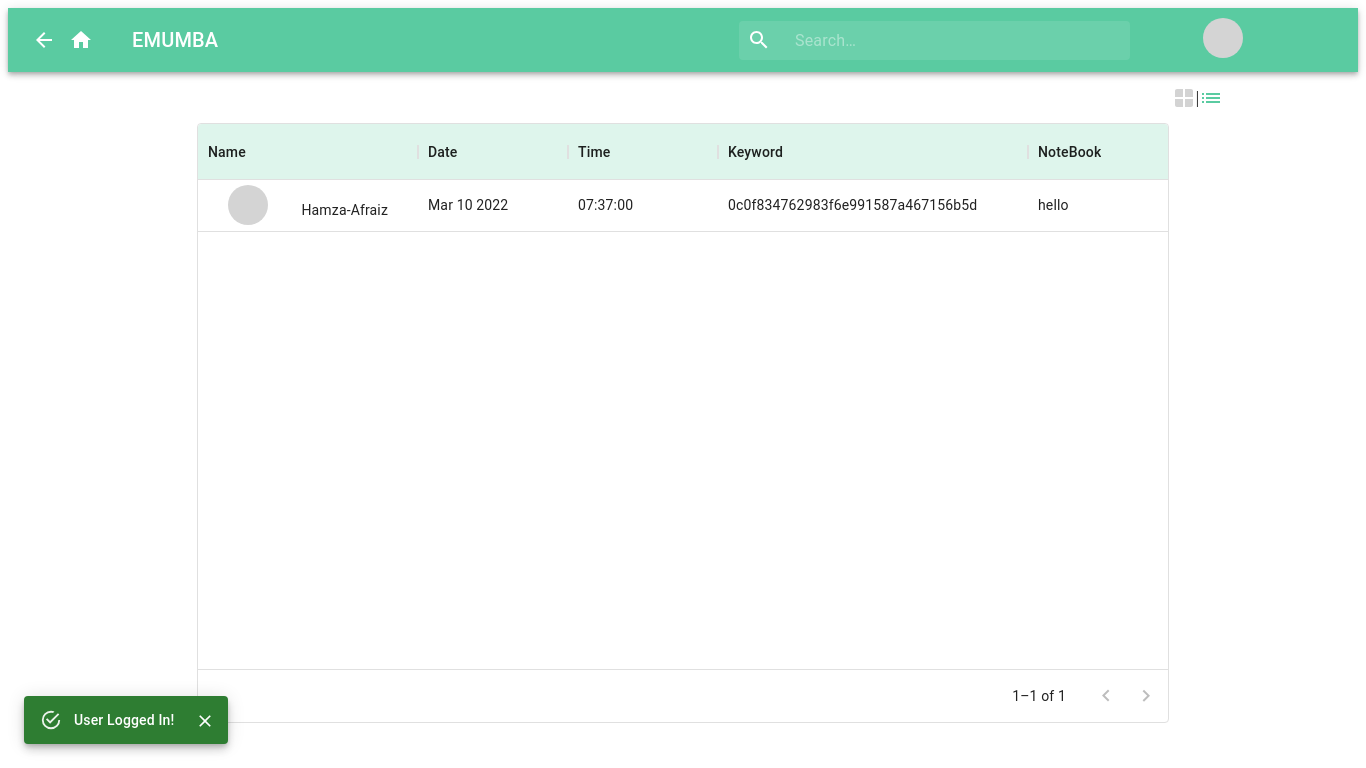
Test case: when List Displays › when user Clicks on Some Gist,Gist details should be displayed
This screenshot has width=1366, height=768.
Check: the text "Hamza-Afraiz" is shown, box [302, 202, 388, 218]
Note: clicking what we get from gist api response
What coordinates should you click on to do the following:
click the cell "Hamza-Afraiz"
I would click on:
 (308, 206)
Its box is [198, 180, 418, 232].
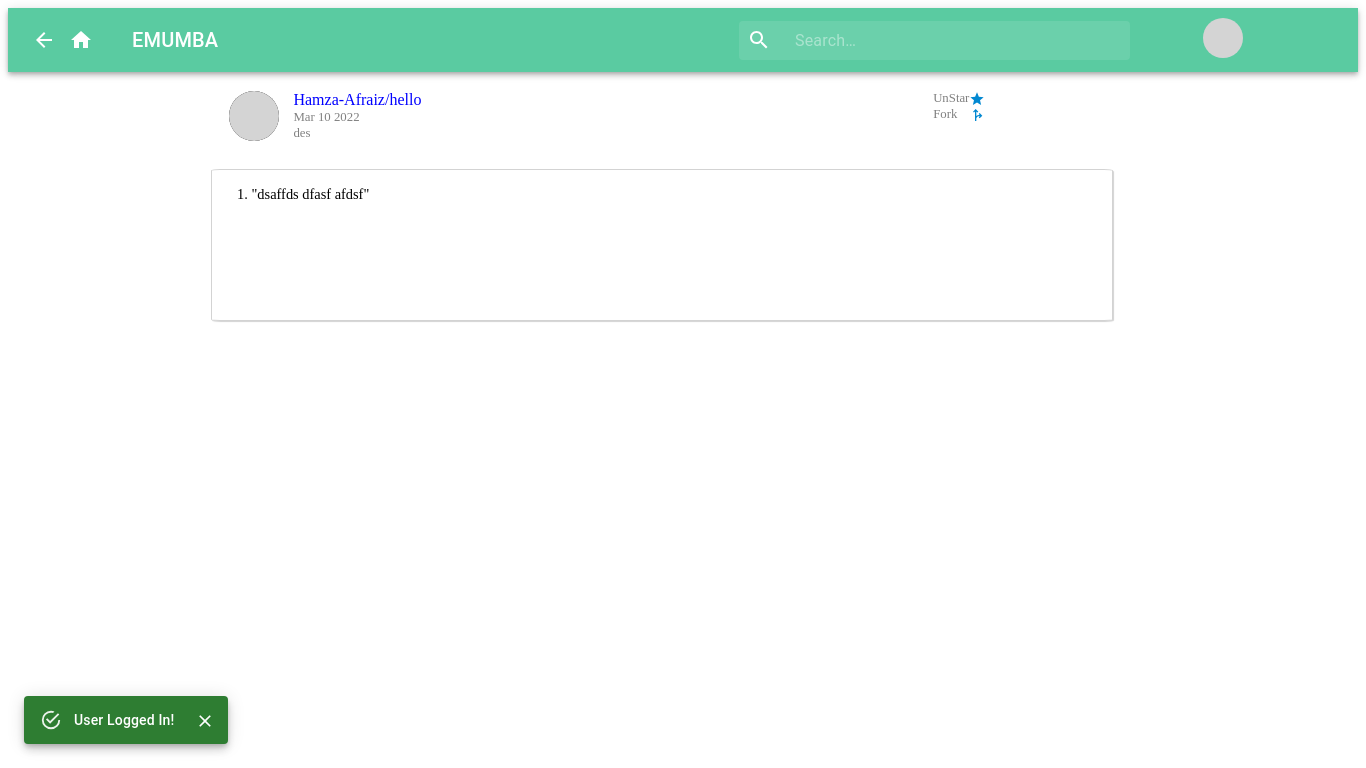
Check: the text "des" is shown, box [294, 126, 311, 140]
